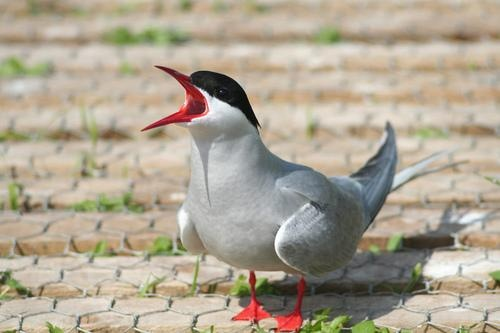bird: (142, 60, 465, 333)
